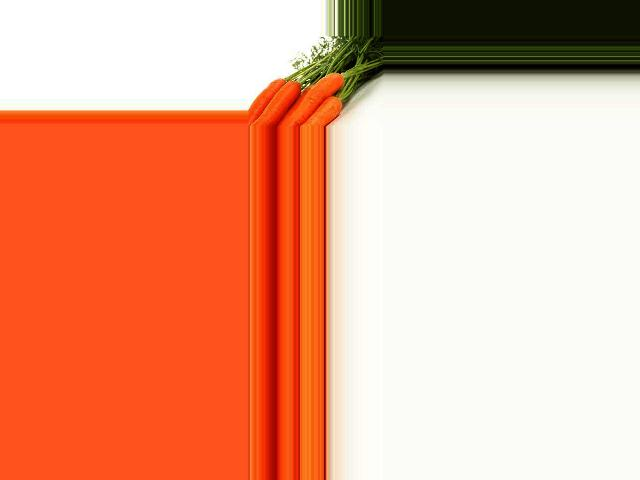carrot: (302, 94, 342, 127)
